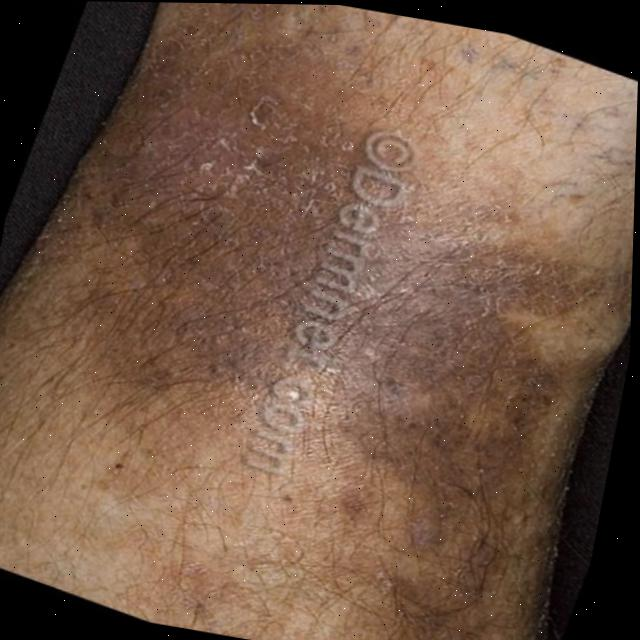Eczema: (0, 24, 639, 640)
